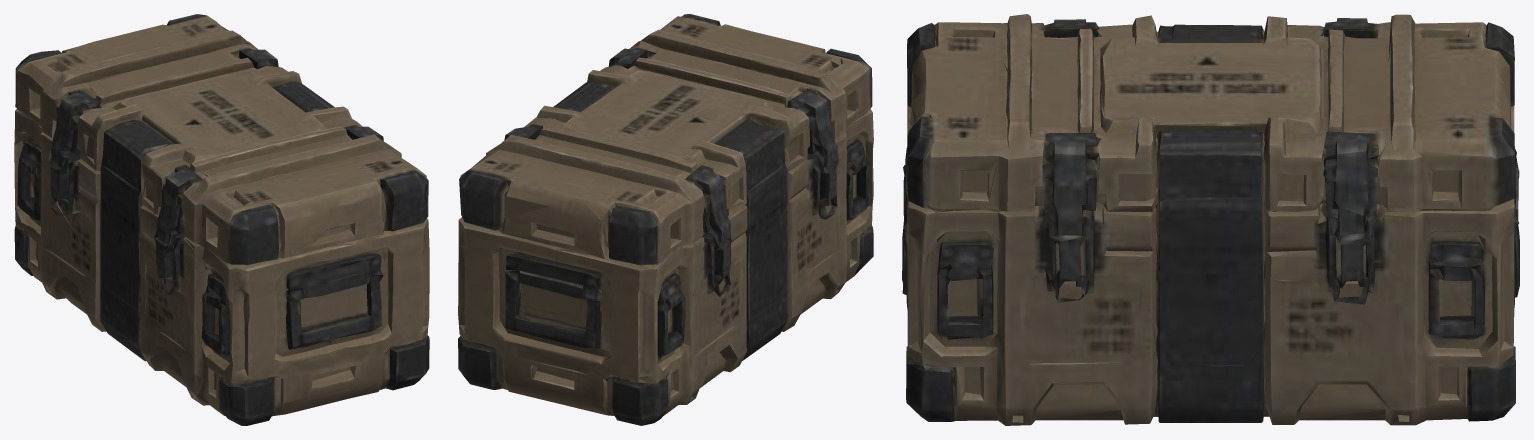
The model's file is ammo_cache.glb.
The picture shows the model from 3 angles, left to right: view 1: azimuth 30°, elevation 25°; view 2: azimuth 150°, elevation 25°; view 3: azimuth 270°, elevation 25°; orthographic projection. The views are drawn at different scales.
Parts seen in each view (by area): view 1: model; view 2: model; view 3: model.
Boxes of the visible parts, bbox=[...] form: model: bbox=[14, 14, 429, 425]; model: bbox=[458, 14, 873, 425]; model: bbox=[902, 14, 1519, 425].
Bounding box in the file's own units: 0.2853 × 0.263 × 0.5.
1 material, 1 textured.
